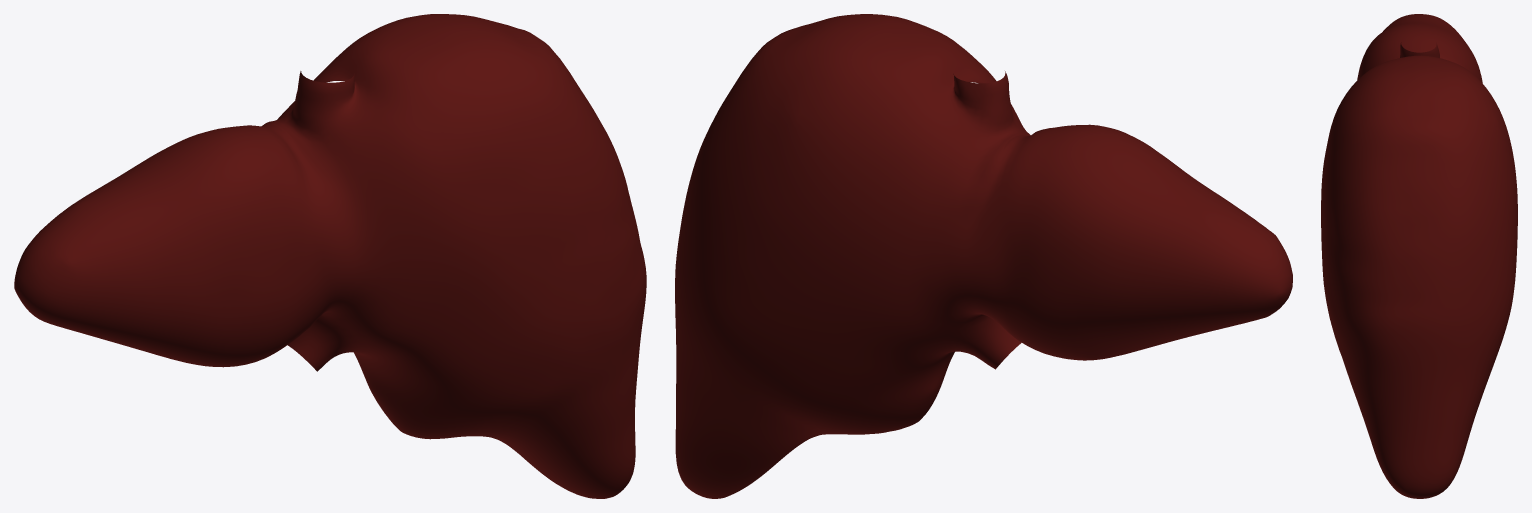
File: higado.glb
3 views of the same model, side by side, from view 1: azimuth 30°, elevation 25°; view 2: azimuth 150°, elevation 25°; view 3: azimuth 270°, elevation 25° (orthographic). The views are drawn at different scales.
Visible parts, largest first — view 1: Mesh0; view 2: Mesh0; view 3: Mesh0.
Boxes of the visible parts, bbox=[...] form: Mesh0: bbox=[14, 14, 646, 498]; Mesh0: bbox=[675, 14, 1292, 498]; Mesh0: bbox=[1321, 14, 1517, 498].
Bounding box in the file's own units: 198 × 157 × 75.8.
